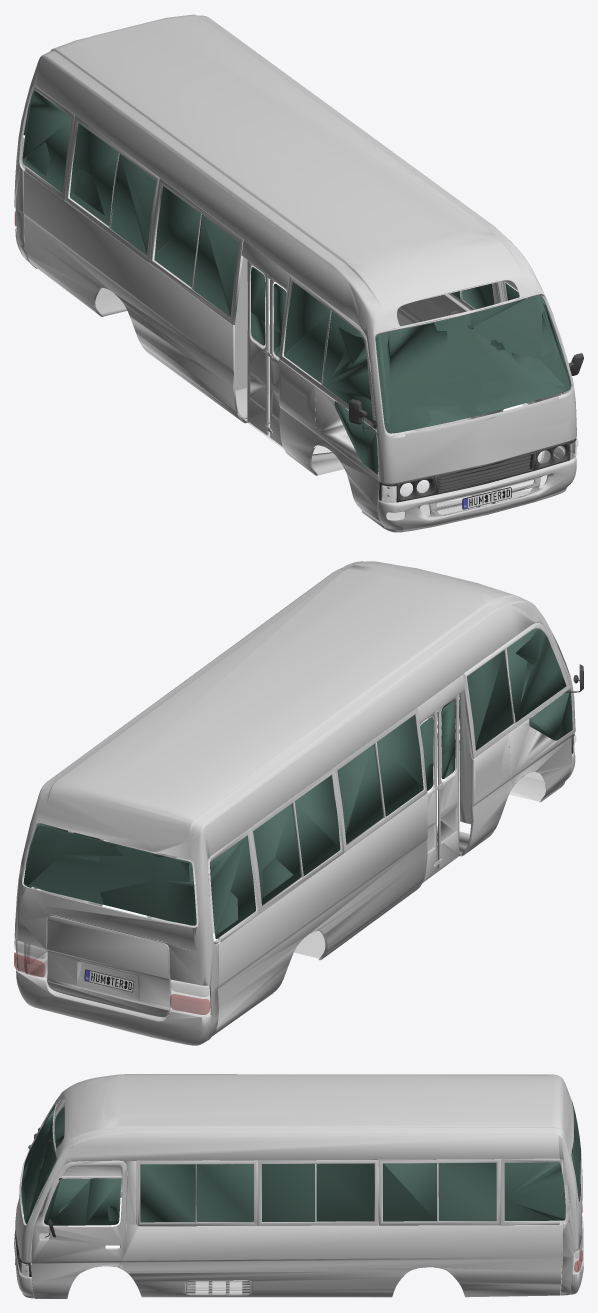
File: coaster.fbx
The picture shows the model from 3 angles, top to bottom: view 1: azimuth 30°, elevation 25°; view 2: azimuth 150°, elevation 25°; view 3: azimuth 270°, elevation 25°; orthographic projection. The views are drawn at different scales.
Visible parts, largest first — view 1: Toyota_Coaster_(Mk3f)_(B50)_HQinterior_2014; view 2: Toyota_Coaster_(Mk3f)_(B50)_HQinterior_2014; view 3: Toyota_Coaster_(Mk3f)_(B50)_HQinterior_2014.
Boxes of the visible parts, <box> form: Toyota_Coaster_(Mk3f)_(B50)_HQinterior_2014: <box>14,14,583,532</box>; Toyota_Coaster_(Mk3f)_(B50)_HQinterior_2014: <box>14,561,583,1045</box>; Toyota_Coaster_(Mk3f)_(B50)_HQinterior_2014: <box>14,1074,583,1298</box>.
Bounding box in the file's own units: 1308 × 1181 × 3616.
